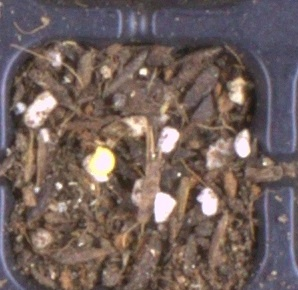chilli seed: (89, 145, 116, 175)
